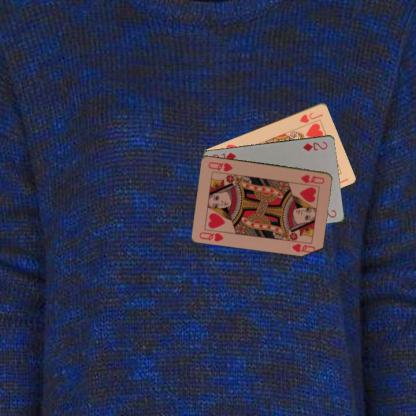2d: (300, 138, 329, 152)
Jh: (297, 110, 324, 124)
Qh: (298, 171, 326, 185), (197, 229, 225, 243)
